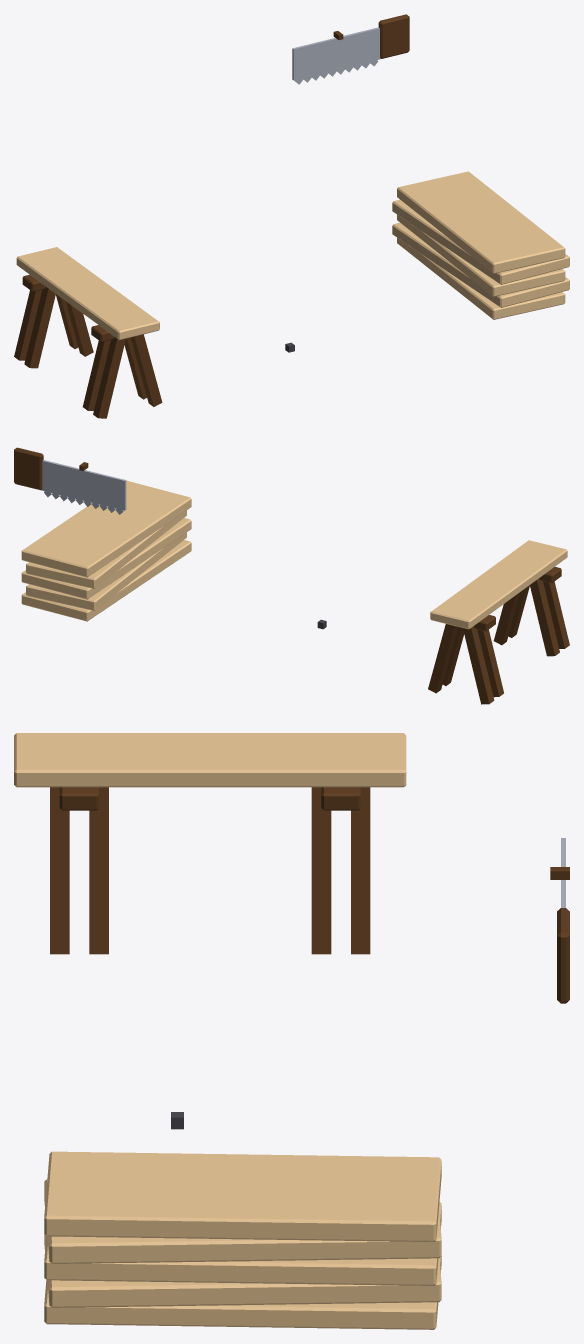
File: Workshop.fbx
The picture shows the model from 3 angles, top to bottom: view 1: azimuth 30°, elevation 25°; view 2: azimuth 150°, elevation 25°; view 3: azimuth 270°, elevation 25°; orthographic projection. The views are drawn at different scales.
Parts seen in each view (by area): view 1: Board, Wood, Metal; view 2: Board, Wood, Metal; view 3: Board, Wood.
Part boxes in pixels (left/top/right/bottom): Board: left=16, top=171, right=569, bottom=340; Wood: left=14, top=14, right=409, bottom=418; Metal: left=292, top=27, right=380, bottom=84; Board: left=21, top=480, right=567, bottom=629; Wood: left=14, top=447, right=569, bottom=704; Metal: left=41, top=460, right=126, bottom=514; Board: left=14, top=733, right=441, bottom=1329; Wood: left=50, top=787, right=569, bottom=1003.
Bounding box in the file's own units: 15.88 × 6.7 × 8.5.
